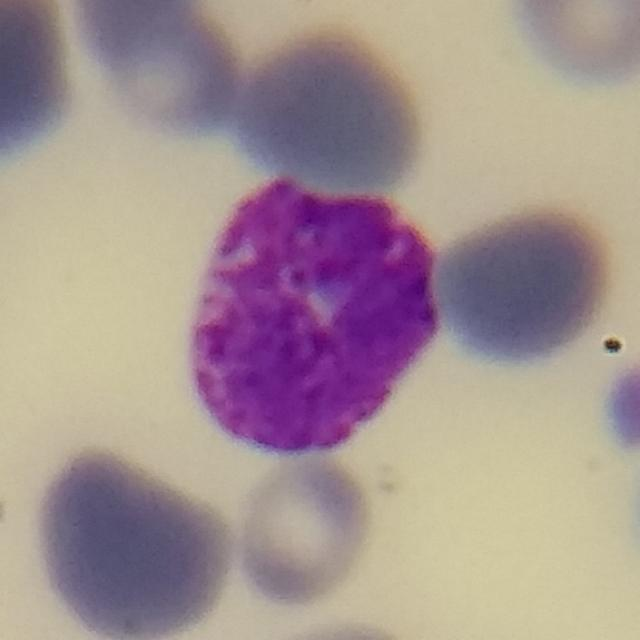baso: (193, 155, 444, 459)
